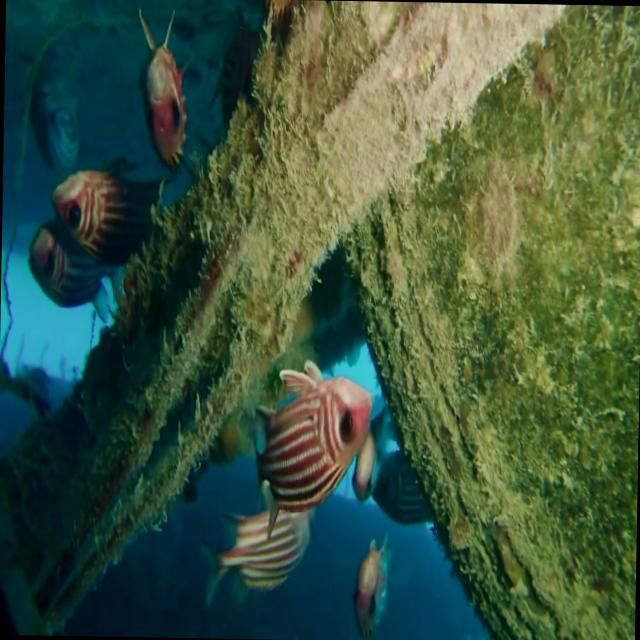Asker Baligi: (249, 357, 374, 543), (42, 146, 154, 262)
